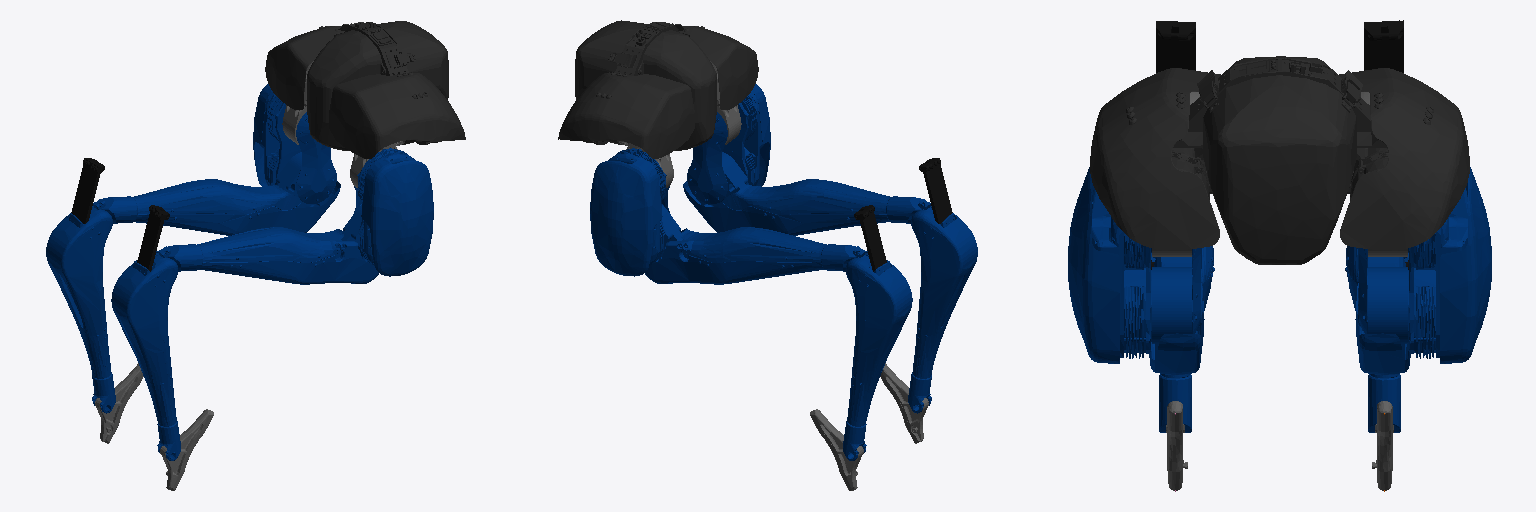
--- Render facts (derived) ---
The picture shows the robot from 3 angles, left to right: view 1: azimuth 30°, elevation 25°; view 2: azimuth 150°, elevation 25°; view 3: azimuth 270°, elevation 25°; orthographic projection.
Robot: cassie — 23 links, 22 joints (16 revolute, 6 fixed); root link pelvis; default pose: joints at zero except 4 at the middle of their limits (knee_left = -1.75, knee_right = -1.75, ankle_joint_left = 1.9, ankle_joint_right = 1.9).
Links seen in each view (by area): view 1: pelvis, shin_right, shin_left, thigh_right, tarsus_left, tarsus_right, thigh_left, toe_right, toe_left, heel_spring_left, heel_spring_right, knee_left; view 2: pelvis, shin_left, shin_right, thigh_left, tarsus_right, tarsus_left, thigh_right, toe_left, toe_right, heel_spring_right, heel_spring_left, knee_right; view 3: pelvis, thigh_left, thigh_right, shin_left, shin_right, knee_left, knee_right, heel_spring_left, heel_spring_right, toe_left, toe_right, tarsus_left (+1 smaller).
Boxes of the visible links, box(x1,y1,x2,y2) form: pelvis: box(265, 21, 465, 158); shin_right: box(153, 227, 378, 284); shin_left: box(91, 179, 340, 235); thigh_right: box(354, 148, 433, 276); tarsus_left: box(46, 206, 115, 413); tarsus_right: box(111, 251, 180, 460); thigh_left: box(253, 84, 335, 203); toe_right: box(160, 409, 213, 490); toe_left: box(95, 363, 143, 443); heel_spring_left: box(71, 158, 104, 223); heel_spring_right: box(137, 205, 169, 271); knee_left: box(276, 152, 336, 206); pelvis: box(558, 20, 758, 158); shin_left: box(645, 227, 870, 284); shin_right: box(683, 179, 932, 235); thigh_left: box(590, 148, 669, 276); tarsus_right: box(908, 206, 977, 413); tarsus_left: box(843, 251, 912, 460); thigh_right: box(688, 84, 770, 203); toe_left: box(810, 409, 863, 490); toe_right: box(880, 363, 928, 443); heel_spring_right: box(919, 158, 952, 223); heel_spring_left: box(854, 205, 886, 271); knee_right: box(687, 152, 747, 206); pelvis: box(1090, 56, 1469, 264); thigh_left: box(1358, 167, 1491, 363); thigh_right: box(1068, 167, 1201, 363); shin_left: box(1345, 246, 1410, 374); shin_right: box(1149, 246, 1214, 374); knee_left: box(1368, 267, 1407, 359); knee_right: box(1152, 267, 1191, 359); heel_spring_left: box(1364, 20, 1403, 72); heel_spring_right: box(1156, 21, 1195, 72); toe_left: box(1372, 401, 1393, 491); toe_right: box(1166, 401, 1187, 491); tarsus_left: box(1368, 374, 1400, 432).
Size in the robot's own frame: 0.8053 by 0.53 by 0.8442 metres.
Meshes: 13 distinct files referenced, 19 mesh visuals loaded (13 OBJ).

URDF robot description (cassie):
<robot name="cassie">

  <link name="pelvis">
    <inertial>
      <origin
        xyz=".05066 0.000346 .02841"
        rpy="0 0 0" />
      <mass value="10.33" />
      <inertia
        ixx=".094158"
        ixy=".0001685"
        ixz=".015026"
        iyy=".084066"
        iyz=".0005156"
        izz=".112770" />
    </inertial>
    <visual>
      <origin
        xyz="0 0 0"
        rpy="1.570796 0 0" />
      <geometry>
        <mesh filename="meshes/agility/pelvis.obj" />
      </geometry>
      <material name="">
        <color
          rgba="0.2 0.2 0.2 1.0" />
      </material>
    </visual>
  </link>

  <link name="yaw_left">
    <inertial>
      <origin
        xyz=".0257 0.0001 .0179"
        rpy="0 -1.570796 0" />
      <mass value="1.82" />
      <inertia
        ixx=".002722"
        ixy=".000000703"
        ixz=".00000153"
        iyy=".005586"
        iyz=".00000261"
        izz=".004638" />
    </inertial>
    <visual>
      <origin
        xyz="0 0 -0.07"
        rpy="0 -1.570796 0" />
      <geometry>
        <mesh filename="meshes/agility/left_yaw.obj" />
      </geometry>
      <material name="">
        <color rgba="0.4 0.4 0.4 1" />
      </material>
    </visual>
  </link>

  <link name="yaw_right">
    <inertial>
      <origin
        xyz=".0257 -0.0001 .0179"
        rpy="0 -1.570796 0" />
      <mass value="1.82" />
      <inertia
        ixx=".002722"
        ixy="-.000000703"
        ixz=".00000153"
        iyy=".005586"
        iyz="-.00000261"
        izz=".004638" />
    </inertial>
    <visual>
      <origin
        xyz="0 0 -0.07"
        rpy="0 -1.570796 0" />
      <geometry>
        <mesh filename="meshes/agility/right_yaw.obj" />
      </geometry>
      <material name="">
        <color rgba="0.4 0.4 0.4 1" />
      </material>
    </visual>
  </link>

  <link name="hip_left">
    <inertial>
      <origin
        xyz="-.05572 0 0.00001"
        rpy="-1.570796 1.570796 0" />
      <mass value="1.171" />
      <inertia
        ixx=".000842"
        ixy=".0000002462"
        ixz="-.0000006251"
        iyy=".006076"
        iyz="-.00000004"
        izz=".006436" />
    </inertial>
    <visual>
      <origin
        xyz="0 0 -0.09"
        rpy="-1.570796 1.570796 0" />
      <geometry>
        <mesh filename="meshes/agility/left_hip.obj" />
      </geometry>
      <material name="">
        <color rgba="0.4 0.4 0.4 1" />
      </material>
    </visual>
  </link>

  <link name="hip_right">
    <inertial>
      <origin
        xyz="-.05572 0 -0.00001"
        rpy="-1.570796 1.570796 0" />
      <mass value="1.171" />
      <inertia
        ixx=".000842"
        ixy=".0000002462"
        ixz=".0000006251"
        iyy=".006076"
        iyz=".00000004"
        izz=".006436" />
    </inertial>
    <visual>
      <origin
        xyz="0 0 -0.09"
        rpy="-1.570796 1.570796 0" />
      <geometry>
        <mesh filename="meshes/agility/right_hip.obj" />
      </geometry>
      <material name="">
        <color rgba="0.4 0.4 0.4 1" />
      </material>
    </visual>
  </link>

  <link name="thigh_left">
    <inertial>
      <origin
        xyz="0.05946 0.00005 -.03581"
        rpy="0 0 0" />
      <mass value="5.52" />
      <inertia
        ixx=".017969"
        ixy=".0002836"
        ixz="-.011685"
        iyy=".056284"
        iyz="-.00001926"
        izz=".049756" />
    </inertial>
    <visual>
      <origin
        xyz="0 0 0"
        rpy="1.570796 0 0" />
      <geometry>
        <mesh filename="meshes/agility/hip-pitch.obj"/>
      </geometry>
      <material name="">
        <color rgba="0.024 0.24 0.5 1.0" />
      </material>
    </visual>
  </link>

  <link name="thigh_right">
    <inertial>
      <origin
        xyz="0.05946 0.00005 .03581"
        rpy="0 0 0" />
      <mass value="5.52" />
      <inertia
        ixx=".017969"
        ixy=".0002836"
        ixz=".011685"
        iyy=".056284"
        iyz=".00001926"
        izz=".049756" />
    </inertial>
    <visual>
      <origin
        xyz="0 0 0"
        rpy="-1.570796 3.14159 0" />
      <geometry>
        <mesh filename="meshes/agility/hip-pitch.obj"
        scale="-1 -1 -1"/>
      </geometry>
      <material name="">
        <color rgba="0.024 0.24 0.5 1.0" />
      </material>
    </visual>
  </link>

  <link name="knee_left">
    <inertial>
      <origin
        xyz="0.023 0.03207 -0.002181"
        rpy="0 0 0" />
      <mass value="0.7578" />
      <inertia
        ixx=".002159"
        ixy=".0009564"
        ixz=".000002837"
        iyy=".001438"
        iyz=".000000739"
        izz=".003344" />
    </inertial>
    <visual>
      <origin
        xyz="0 0 0"
        rpy="0 0 0" />
      <geometry>
        <mesh filename="meshes/knee-output.obj" />
      </geometry>
      <material name="">
        <color rgba="0.024 0.24 0.5 1.0" />
      </material>
    </visual>
  </link>

  <link name="knee_right">
    <inertial>
      <origin
        xyz="0.023 0.03207 0.002181"
        rpy="0 0 0" />
      <mass value="0.7578" />
      <inertia
        ixx=".002159"
        ixy=".0009564"
        ixz=".000002837"
        iyy=".001438"
        iyz="-.000000739"
        izz=".003344" />
    </inertial>
    <visual>
      <origin
        xyz="0 0 0"
        rpy="0 0 0" />
      <geometry>
        <mesh filename="meshes/knee-output-r.obj" />
      </geometry>
      <material name="">
        <color rgba="0.024 0.24 0.5 1.0" />
      </material>
    </visual>
  </link>

  <link name="shin_left">
    <inertial>
      <origin
        xyz=".18338 0.001169 0.0002123"
        rpy="0 0 0" />
      <mass value="0.5771" />
      <inertia
        ixx=".0003602"
        ixy=".0003335"
        ixz="-.0000001941"
        iyy=".034132"
        iyz=".0000002652"
        izz=".034111" />
    </inertial>
    <visual>
      <origin
        xyz="0 0 0"
        rpy="1.570796 0 0" />
      <geometry>
        <mesh filename="meshes/agility/shin.obj" />
      </geometry>
      <material name="">
        <color rgba="0.024 0.24 0.5 1.0" />
      </material>
    </visual>
  </link>

  <link name="shin_right">
    <inertial>
      <origin
        xyz=".18338 0.001169 -0.0002123"
        rpy="0 0 0" />
      <mass value="0.5771" />
      <inertia
        ixx=".0003602"
        ixy=".000334"
        ixz=".0000001941"
        iyy=".034132"
        iyz="-.0000002652"
        izz=".034111" />
    </inertial>
    <visual>
      <origin
        xyz="0 0 0"
        rpy="-1.570796 3.14159 0" />
      <material name="">
        <color rgba="0.024 0.24 0.5 1.0" />
      </material>
      <geometry>
        <mesh filename="meshes/agility/shin.obj"
        scale="-1 -1 -1"/>
      </geometry>
    </visual>
  </link>

  <link name="knee_spring_left">
    <inertial>
      <origin
        xyz=".08364 0.003427 0.0"
        rpy="0 0 0" />
      <mass value="0.1864" />
      <inertia
        ixx=".0000543"
        ixy=".00004601"
        ixz="0.0"
        iyy=".001712"
        iyz="0.0"
        izz=".001669" />
    </inertial>
    <visual>
      <origin
        xyz="0 0 0"
        rpy="1.570796 0 0" />
      <geometry>
        <mesh filename="meshes/agility/knee-spring.obj" />
      </geometry>
      <material name="">
        <color rgba="0.1 0.1 0.1 1" />
      </material>
    </visual>
  </link>

  <link name="knee_spring_right">
    <inertial>
      <origin
        xyz=".08364 0.003427 0.0"
        rpy="0 0 0" />
      <mass value="0.1864" />
      <inertia
        ixx=".0000543"
        ixy=".00004601"
        ixz="0.0"
        iyy=".001712"
        iyz="0.0"
        izz=".001669" />
    </inertial>
    <visual>
      <origin
        xyz="0 0 0"
        rpy="1.570796 0 0" />
      <geometry>
        <mesh filename="meshes/agility/knee-spring.obj" />
      </geometry>
      <material name="">
        <color rgba="0.1 0.1 0.1 1" />
      </material>
    </visual>
  </link>

  <link name="tarsus_left">
    <inertial>
      <origin
        xyz=".11046 -.03058 -.00131"
        rpy="0 0 0" />
      <mass value="0.782" />
      <inertia
        ixx=".001125"
        ixy="-.002878"
        ixz="-.00006329"
        iyy=".023138"
        iyz=".00003615"
        izz=".023947" />
    </inertial>
    <visual>
      <origin
        xyz="0 0 0"
        rpy="1.570796 0 0" />
      <geometry>
        <mesh filename="meshes/agility/tarsus.obj" />
      </geometry>
      <material name="">
        <color rgba="0.024 0.24 0.5 1.0" />
      </material>
    </visual>
  </link>

  <link name="tarsus_right">
    <inertial>
      <origin
        xyz=".11046 -.03058 -.00131"
        rpy="0 0 0" />
      <mass value="0.782" />
      <inertia
        ixx=".001125"
        ixy="-.002878"
        ixz=".00006329"
        iyy=".023138"
        iyz="-.00003615"
        izz=".023947" />
    </inertial>
    <visual>
      <origin
        xyz="0 0 0"
        rpy="1.570796 0 3.14159" />
      <geometry>
        <mesh filename="meshes/agility/tarsus.obj"
        scale="-1 -1 -1"/>
      </geometry>
      <material name="">
        <color rgba="0.024 0.24 0.5 1.0" />
      </material>
    </visual>
  </link>

  <link name="heel_spring_left">
    <inertial>
      <origin
        xyz="0.08097 0.00223 -0.0000385"
        rpy="0 0 0" />
      <mass value="0.1259" />
      <inertia
        ixx=".00003016"
        ixy=".00001528"
        ixz=".000000575"
        iyy=".001049"
        iyz="-.0000000557"
        izz=".001028" />
    </inertial>
    <visual>
      <origin
        xyz="0 0 0"
        rpy="1.570796 0 0" />
      <geometry>
        <mesh filename="meshes/agility/heel-spring.obj" />
      </geometry>
      <material name="">
        <color rgba="0.1 0.1 0.1 1" />
      </material>
    </visual>
  </link>

  <link name="heel_spring_right">
    <inertial>
      <origin
        xyz="0.08097 0.00223 -0.0000385"
        rpy="0 0 0" />
      <mass value="0.1259" />
      <inertia
        ixx=".00003016"
        ixy=".00001528"
        ixz=".000000575"
        iyy=".001049"
        iyz="-.0000000557"
        izz=".001028" />
    </inertial>
    <visual>
      <origin
        xyz="0 0 0"
        rpy="1.570796 0 0" />
      <geometry>
        <mesh filename="meshes/agility/heel-spring.obj" />
      </geometry>
      <material name="">
        <color rgba="0.1 0.1 0.1 1" />
      </material>
    </visual>
  </link>

  <!--
      **************************************************************
      lumped masses for the foot crank and plantar rods-attaching them
      to the foot at the heel location
      **************************************************************
  -->
  <link name="foot_crank_mass_left">
    <inertial>
      <mass value="0.129"/>
    </inertial>
  </link>

  <link name="foot_crank_mass_right">
    <inertial>
      <mass value="0.129"/>
    </inertial>
  </link>

  <link name="plantar_rod_mass_left">
    <inertial>
      <mass value="0.1186"/>
    </inertial>
  </link>

  <link name="plantar_rod_mass_right">
    <inertial>
      <mass value="0.1186"/>
    </inertial>
  </link>

  <link name="toe_left">
    <inertial>
      <origin
        xyz="0.00474 0.02748 -0.00014"
        rpy="0 0 0" />
      <mass value="0.1498" />
      <inertia
        ixx=".000287"
        ixy="-.00009863"
        ixz="-.000001456"
        iyy=".0001713"
        iyz=".0000001716"
        izz=".0004491" />
    </inertial>
    <visual>
      <origin
        xyz="0 0 0"
        rpy="1.570796 0 0" />
      <geometry>
        <mesh filename="meshes/agility/foot.obj" />
      </geometry>
      <material name="">
        <color rgba="0.4 0.4 0.4 1" />
      </material>
    </visual>

    <visual>
      <geometry>
        <sphere radius="0.001"/>
      </geometry>
      <origin xyz="-0.0457 .112 0" rpy="0 0 0"/>
    </visual>
    <collision>
      <geometry>
        <sphere radius="0.0"/>
      </geometry>
      <origin xyz="-0.0457 .112 0" rpy="0 0 0"/>
    </collision>
    <visual>
      <geometry>
        <sphere radius="0.001"/>
      </geometry>
      <origin xyz="0.088 0 0" rpy="0 0 0"/>
    </visual>
    <collision>
      <geometry>
        <sphere radius="0.0"/>
      </geometry>
      <origin xyz="0.088 0 0" rpy="0 0 0"/>
    </collision>
  </link>

  <link name="toe_right">
    <inertial>
      <origin
        xyz="0.00474 0.02748 0.00014"
        rpy="0 0 0" />
      <mass value="0.1498" />
      <inertia
        ixx=".000287"
        ixy="-.00009863"
        ixz=".000001456"
        iyy=".0001713"
        iyz="-.0000001716"
        izz=".0004491" />
    </inertial>
    <visual>
      <origin
        xyz="0 0 0"
        rpy="1.570796 0 3.14159" />
      <geometry>
        <mesh filename="meshes/agility/foot.obj"
        scale="-1 -1 -1"/>
      </geometry>
      <material name="">
        <color rgba="0.4 0.4 0.4 1" />
      </material>
    </visual>
    <visual>
      <geometry>
        <sphere radius="0.001"/>
      </geometry>
      <origin xyz="-0.0457 .112 0" rpy="0 0 0"/>
    </visual>
    <collision>
      <geometry>
        <sphere radius="0.0"/>
      </geometry>
      <origin xyz="-0.0457 .112 0" rpy="0 0 0"/>
    </collision>
    <visual>
      <geometry>
        <sphere radius="0.001"/>
      </geometry>
      <origin xyz="0.088 0 0" rpy="0 0 0"/>
    </visual>
    <collision>
      <geometry>
        <sphere radius="0.0"/>
      </geometry>
      <origin xyz="0.088 0 0" rpy="0 0 0"/>
    </collision>
  </link>



  <!-- JOINTS ||| JOINTS ||| JOINTS ||| JOINTS ||| JOINTS |||-->
  <!-- JOINTS ||| JOINTS ||| JOINTS ||| JOINTS ||| JOINTS |||-->
  <!-- JOINTS ||| JOINTS ||| JOINTS ||| JOINTS ||| JOINTS |||-->
  <!-- JOINTS ||| JOINTS ||| JOINTS ||| JOINTS ||| JOINTS |||-->
  <!-- JOINTS ||| JOINTS ||| JOINTS ||| JOINTS ||| JOINTS |||-->
  <!-- JOINTS ||| JOINTS ||| JOINTS ||| JOINTS ||| JOINTS |||-->
  <!-- JOINTS ||| JOINTS ||| JOINTS ||| JOINTS ||| JOINTS |||-->
  <!-- JOINTS ||| JOINTS ||| JOINTS ||| JOINTS ||| JOINTS |||-->
  <!-- JOINTS ||| JOINTS ||| JOINTS ||| JOINTS ||| JOINTS |||-->
  <!-- JOINTS ||| JOINTS ||| JOINTS ||| JOINTS ||| JOINTS |||-->


  <joint name="hip_roll_left" type="revolute">
    <origin xyz=".021 .135 0" rpy="0 1.570796 0" />
    <parent link="pelvis" />
    <child link="yaw_left" />
    <axis xyz="0 0 1" />
    <limit lower="-0.262" upper="0.393" effort="112.5"/>
    <dynamics damping="2" />
  </joint>

  <joint name="hip_roll_right" type="revolute">
    <origin xyz=".021 -.135 0" rpy="0 1.570796 0" />
    <parent link="pelvis" />
    <child link="yaw_right" />
    <axis xyz="0 0 1" />
    <limit lower="-0.393" upper="0.262" effort="112.5"/>
    <dynamics damping="2" />
  </joint>


  <joint name="hip_yaw_left" type="revolute">
    <origin xyz="0 0 -0.07" rpy="0 -1.570796 0" />
    <parent link="yaw_left" />
    <child link="hip_left" />
    <axis xyz="0 0 1" />
    <limit lower="-0.393" upper="0.393" effort="112.5"/>
    <dynamics damping="1" />
  </joint>

  <joint name="hip_yaw_right" type="revolute">
    <origin xyz="0 0 -0.07" rpy="0 -1.570796 0" />
    <parent link="yaw_right" />
    <child link="hip_right" />
    <axis xyz="0 0 1" />
    <limit lower="-0.393" upper="0.393" effort="112.5"/>
    <dynamics damping="1" />
  </joint>


  <joint name="hip_pitch_left" type="revolute">
    <origin xyz="0 0 -0.09" rpy="1.570796 1.570796 0" />
    <parent link="hip_left" />
    <child link="thigh_left" />
    <axis xyz="0 0 1" />
    <limit lower="-0.873" upper="1.396" effort="195.2"/>
    <dynamics damping="1" />
  </joint>

  <joint name="hip_pitch_right" type="revolute">
    <origin xyz="0 0 -0.09" rpy="1.570796 1.570796 0" />
    <parent link="hip_right" />
    <child link="thigh_right" />
    <axis xyz="0 0 1" />
    <limit lower="-0.873" upper="1.396" effort="195.2"/>
    <dynamics damping="1" />
  </joint>

  <joint name="knee_left" type="revolute">
    <origin xyz="0.12 0 0.0045" rpy="0 0 0" />
    <parent link="thigh_left" />
    <child link="knee_left" />
    <axis xyz="0 0 1" />
    <limit lower="-2.862" upper="-0.646" effort="195.2"/>
    <dynamics damping="1" />
  </joint>

  <joint name="knee_right" type="revolute">
    <origin xyz="0.12 0 -0.0045" rpy="0 0 0" />
    <parent link="thigh_right" />
    <child link="knee_right" />
    <axis xyz="0 0 1" />
    <limit lower="-2.862" upper="-0.646" effort="195.2"/>
    <dynamics damping="1" />
  </joint>


  <joint name="foot_crank_mass_left" type="fixed">
    <origin xyz=".055 0 .00776"/>
    <parent link="toe_left" />
    <child link="foot_crank_mass_left" />
  </joint>

  <joint name="foot_crank_mass_right" type="fixed">
    <origin xyz=".055 0 -.00776"/>
    <parent link="toe_right" />
    <child link="foot_crank_mass_right" />
  </joint>

  <joint name="plantar_rod_mass_left" type="fixed">
    <origin xyz=".055 0 .00776"/>
    <parent link="toe_left" />
    <child link="plantar_rod_mass_left" />
  </joint>

  <joint name="plantar_rod_mass_right" type="fixed">
    <origin xyz=".055 0 -.00776"/>
    <parent link="toe_right" />
    <child link="plantar_rod_mass_right" />
  </joint>

  <joint name="knee_joint_left" type="revolute">
    <origin xyz="0.06068 0.04741 0" rpy="0 0 0" />
    <parent link="knee_left" />
    <child link="shin_left" />
    <axis xyz="0 0 1" />
    <limit lower="-.35" upper="0.035"/>
    <dynamics damping=".05" />
  </joint>

  <joint name="knee_joint_right" type="revolute">
    <origin xyz="0.06068 0.04741 0" rpy="0 0 0" />
    <parent link="knee_right" />
    <child link="shin_right" />
    <axis xyz="0 0 1" />
    <limit lower="-.35" upper="0.035"/>
    <dynamics damping=".05" />
  </joint>


  <joint name="knee_spring_left_fixed" type="fixed">
    <origin xyz="0.06068 0.08241 0" rpy="0 0 0" />
    <parent link="knee_left" />
    <child link="knee_spring_left" />
  </joint>

  <joint name="knee_spring_right_fixed" type="fixed">
    <origin xyz="0.06068 0.08241 0" rpy="0 0 0" />
    <parent link="knee_right" />
    <child link="knee_spring_right" />
  </joint>


  <joint name="ankle_joint_left" type="revolute">
    <origin xyz="0.43476 0.02 0" rpy="0 0 0" />
    <parent link="shin_left" />
    <child link="tarsus_left" />
    <axis xyz="0 0 1" />
    <limit lower=".8" upper="3"/>
    <dynamics damping="0.1" />
  </joint>

  <joint name="ankle_joint_right" type="revolute">
    <origin xyz="0.43476 0.02 0" rpy="0 0 0" />
    <parent link="shin_right" />
    <child link="tarsus_right" />
    <axis xyz="0 0 1" />
    <limit lower=".8" upper="3"/>
    <dynamics damping="0.1" />
  </joint>

  <!-- rpy="-0.0689 -0.0370 2.7208"-->
  <joint name="ankle_spring_joint_left" type="revolute">
    <origin xyz="-.01269 -.03059 .00092" rpy="0.0780 0.00549 2.7192" />
    <parent link="tarsus_left" />
    <child link="heel_spring_left" />
    <limit lower="-1" upper="0.5"/>
    <axis xyz="0 0 1" />
    <dynamics damping="10" /> <!-- made up value -->
  </joint>

  <!-- rpy="0.0734 0.0269 2.7201"-->
  <joint name="ankle_spring_joint_right" type="revolute">
    <origin xyz="-.01269 -.03059 -.00092" rpy="-0.0780 -0.00549 2.7192" />
    <parent link="tarsus_right" />
    <child link="heel_spring_right" />
    <limit lower="-1" upper="0.5"/>
    <axis xyz="0 0 1" />
    <dynamics damping="10" /> <!-- made up value -->
  </joint>


  <joint name="toe_left" type="revolute">
    <origin xyz="0.408 -0.040 0" rpy="0 0 0" />
    <parent link="tarsus_left" />
    <child link="toe_left" />
    <axis xyz="0 0 1" />
    <limit lower="-2.8" upper="0" effort="45"/>
    <dynamics damping="1" />
  </joint>

  <joint name="toe_right" type="revolute">
    <origin xyz="0.408 -0.040 0" rpy="0 0 0" />
    <parent link="tarsus_right" />
    <child link="toe_right" />
    <axis xyz="0 0 1" />
    <limit lower="-2.8" upper="0" effort="45"/>
    <dynamics damping="1" />
  </joint>

  <!-- MOTORS ||| MOTORS ||| MOTORS ||| MOTORS ||| MOTORS |||-->
  <!-- MOTORS ||| MOTORS ||| MOTORS ||| MOTORS ||| MOTORS |||-->
  <!-- MOTORS ||| MOTORS ||| MOTORS ||| MOTORS ||| MOTORS |||-->
  <!-- MOTORS ||| MOTORS ||| MOTORS ||| MOTORS ||| MOTORS |||-->
  <!-- MOTORS ||| MOTORS ||| MOTORS ||| MOTORS ||| MOTORS |||-->
  <!-- MOTORS ||| MOTORS ||| MOTORS ||| MOTORS ||| MOTORS |||-->
  <!-- MOTORS ||| MOTORS ||| MOTORS ||| MOTORS ||| MOTORS |||-->
  <!-- MOTORS ||| MOTORS ||| MOTORS ||| MOTORS ||| MOTORS |||-->
  <!-- MOTORS ||| MOTORS ||| MOTORS ||| MOTORS ||| MOTORS |||-->
  <!-- MOTORS ||| MOTORS ||| MOTORS ||| MOTORS ||| MOTORS |||-->

  <transmission name="hip_roll_left_trans" type="transmission_interface/SimpleTransmission">
    <actuator name="hip_roll_left_motor"/>
    <joint name="hip_roll_left"/>
    <mechanicalReduction>1</mechanicalReduction>
  </transmission>

  <transmission name="hip_roll_right_trans" type="transmission_interface/SimpleTransmission">
    <actuator name="hip_roll_right_motor"/>
    <joint name="hip_roll_right"/>
    <mechanicalReduction>1</mechanicalReduction>
  </transmission>

  <transmission name="hip_yaw_left_trans" type="transmission_interface/SimpleTransmission">
    <actuator name="hip_yaw_left_motor"/>
    <joint name="hip_yaw_left"/>
    <mechanicalReduction>1</mechanicalReduction>
  </transmission>

  <transmission name="hip_yaw_right_trans" type="transmission_interface/SimpleTransmission">
    <actuator name="hip_yaw_right_motor"/>
    <joint name="hip_yaw_right"/>
    <mechanicalReduction>1</mechanicalReduction>
  </transmission>

  <transmission name="hip_pitch_left_trans" type="transmission_interface/SimpleTransmission">
    <actuator name="hip_pitch_left_motor"/>
    <joint name="hip_pitch_left"/>
    <mechanicalReduction>1</mechanicalReduction>
  </transmission>

  <transmission name="hip_pitch_right_trans" type="transmission_interface/SimpleTransmission">
    <actuator name="hip_pitch_right_motor"/>
    <joint name="hip_pitch_right"/>
    <mechanicalReduction>1</mechanicalReduction>
  </transmission>

  <transmission name="knee_left_trans" type="transmission_interface/SimpleTransmission">
    <actuator name="knee_left_motor"/>
    <joint name="knee_left"/>
    <mechanicalReduction>1</mechanicalReduction>
  </transmission>

  <transmission name="knee_right_trans" type="transmission_interface/SimpleTransmission">
    <actuator name="knee_right_motor"/>
    <joint name="knee_right"/>
    <mechanicalReduction>1</mechanicalReduction>
  </transmission>

  <transmission name="toe_left_trans" type="transmission_interface/SimpleTransmission">
    <actuator name="toe_left_motor"/>
    <joint name="toe_left"/>
    <mechanicalReduction>1</mechanicalReduction>
  </transmission>

  <transmission name="toe_right_trans" type="transmission_interface/SimpleTransmission">
    <actuator name="toe_right_motor"/>
    <joint name="toe_right"/>
    <mechanicalReduction>1</mechanicalReduction>
  </transmission>

  <!-- SPRINGS ||| SPRINGS ||| SPRINGS ||| SPRINGS ||| SPRINGS |||-->
  <!-- SPRINGS ||| SPRINGS ||| SPRINGS ||| SPRINGS ||| SPRINGS |||-->
  <!-- SPRINGS ||| SPRINGS ||| SPRINGS ||| SPRINGS ||| SPRINGS |||-->
  <!-- SPRINGS ||| SPRINGS ||| SPRINGS ||| SPRINGS ||| SPRINGS |||-->
  <!-- SPRINGS ||| SPRINGS ||| SPRINGS ||| SPRINGS ||| SPRINGS |||-->
  <!-- SPRINGS ||| SPRINGS ||| SPRINGS ||| SPRINGS ||| SPRINGS |||-->
  <!-- SPRINGS ||| SPRINGS ||| SPRINGS ||| SPRINGS ||| SPRINGS |||-->
  <!-- SPRINGS ||| SPRINGS ||| SPRINGS ||| SPRINGS ||| SPRINGS |||-->
  <!-- SPRINGS ||| SPRINGS ||| SPRINGS ||| SPRINGS ||| SPRINGS |||-->
  <!-- SPRINGS ||| SPRINGS ||| SPRINGS ||| SPRINGS ||| SPRINGS |||-->

  <!-- Real springs -->
  <force_element name="left_knee_spring">
    <torsional_spring stiffness="2300" rest_angle="0" >
      <joint name="knee_joint_left" />
    </torsional_spring>
  </force_element>

  <force_element name="left_ankle_spring">
    <torsional_spring stiffness="2000" rest_angle="0">
      <joint name="ankle_spring_joint_left" />
    </torsional_spring>
  </force_element>

  <force_element name="right_knee_spring">
    <torsional_spring stiffness="2300" rest_angle="0" >
      <joint name="knee_joint_right" />
    </torsional_spring>
  </force_element>

  <force_element name="right_ankle_spring">
    <torsional_spring stiffness="2000" rest_angle="0">
      <joint name="ankle_spring_joint_right" />
    </torsional_spring>
  </force_element>

</robot>
